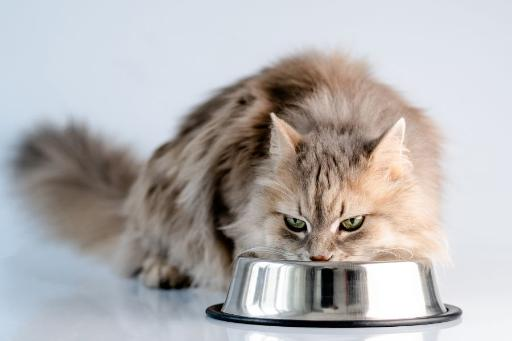cat_eating: (14, 53, 461, 327)
